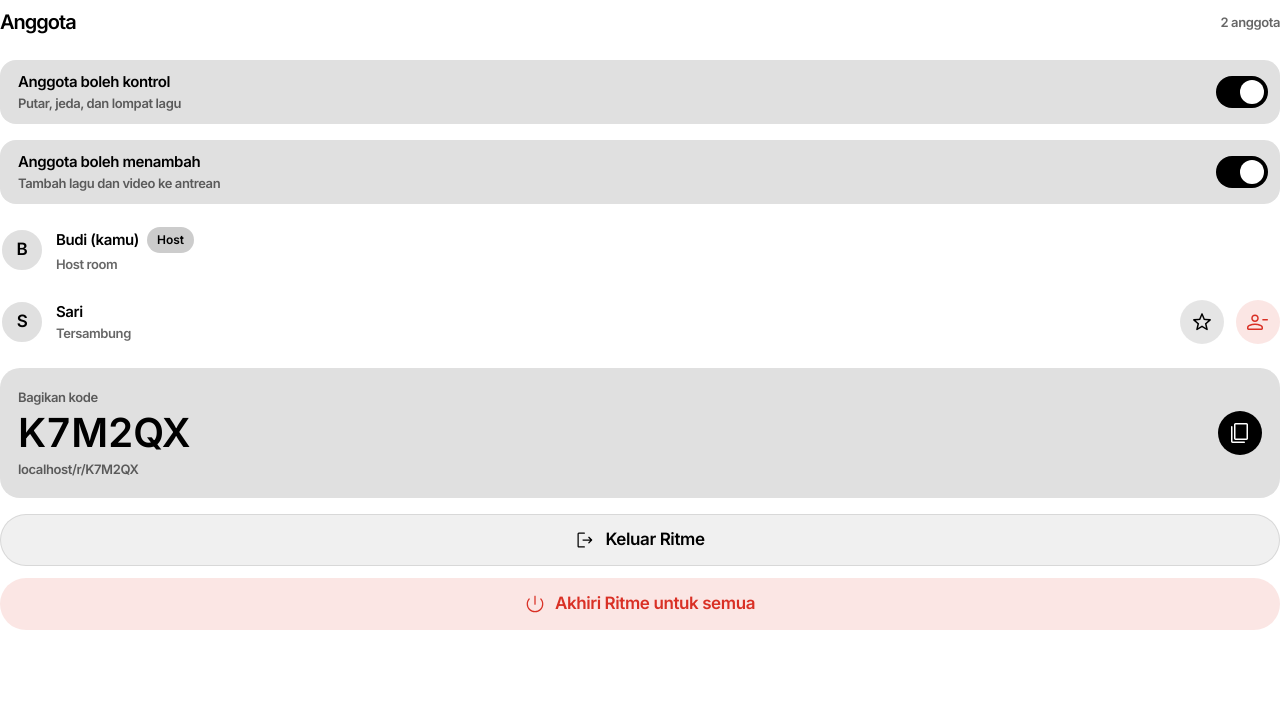
Test case: MembersPanel › does not kick or end the room when the host declines the confirmation
This screenshot has width=1280, height=720.
Click the button named "Keluarkan: Sari" at (1258, 322), box left=1236, top=300, right=1279, bottom=344
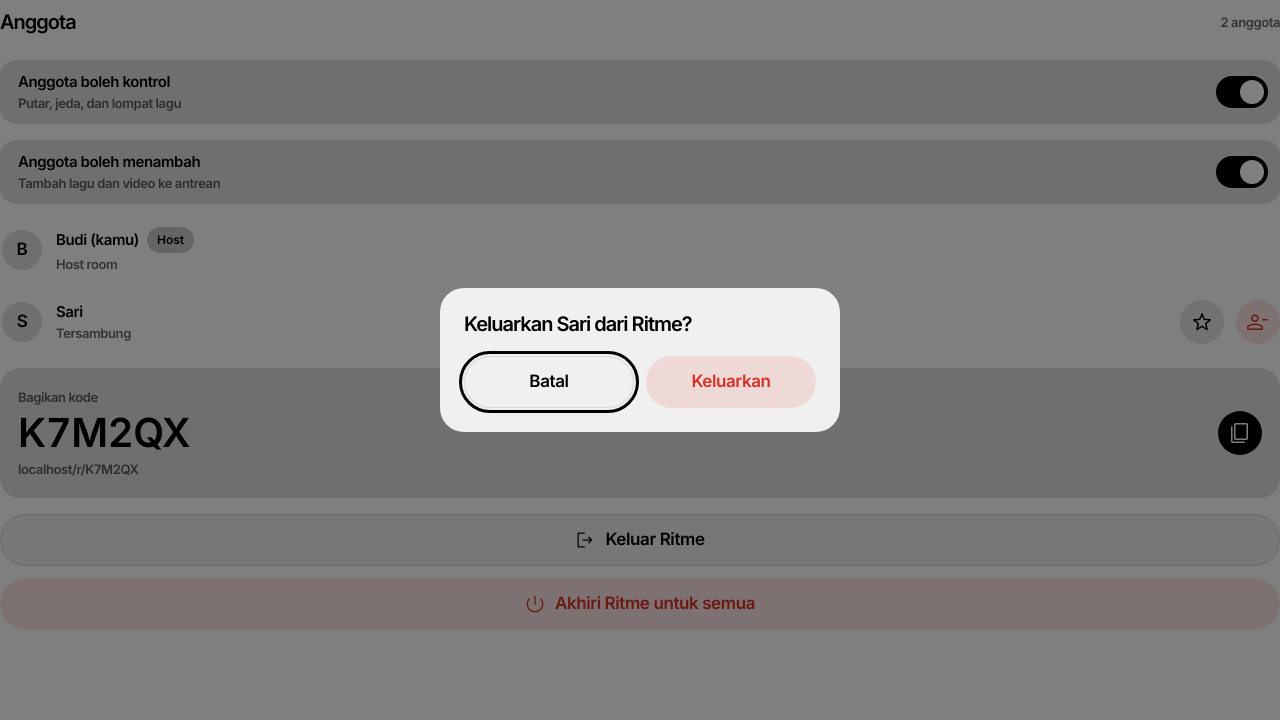
Click the button "Batal" at (549, 382), box left=464, top=356, right=634, bottom=408
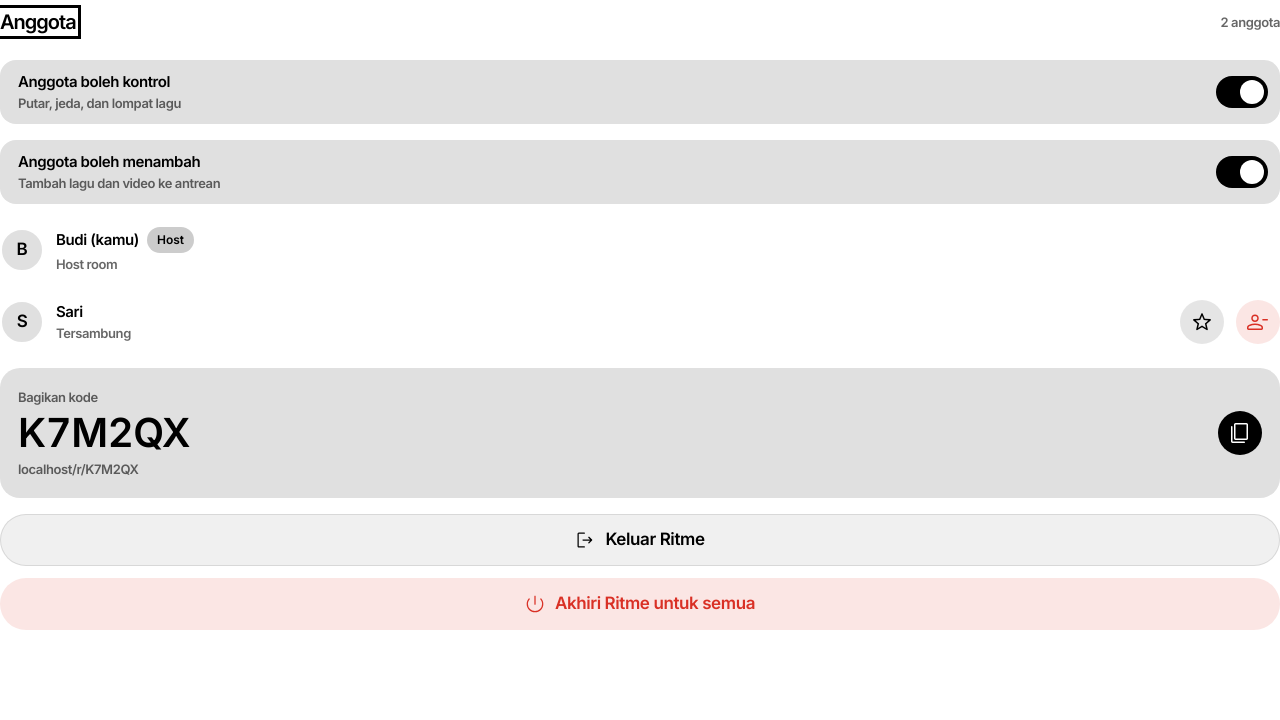
Click the button "Akhiri Ritme untuk semua" at (640, 604), box left=0, top=578, right=1279, bottom=630
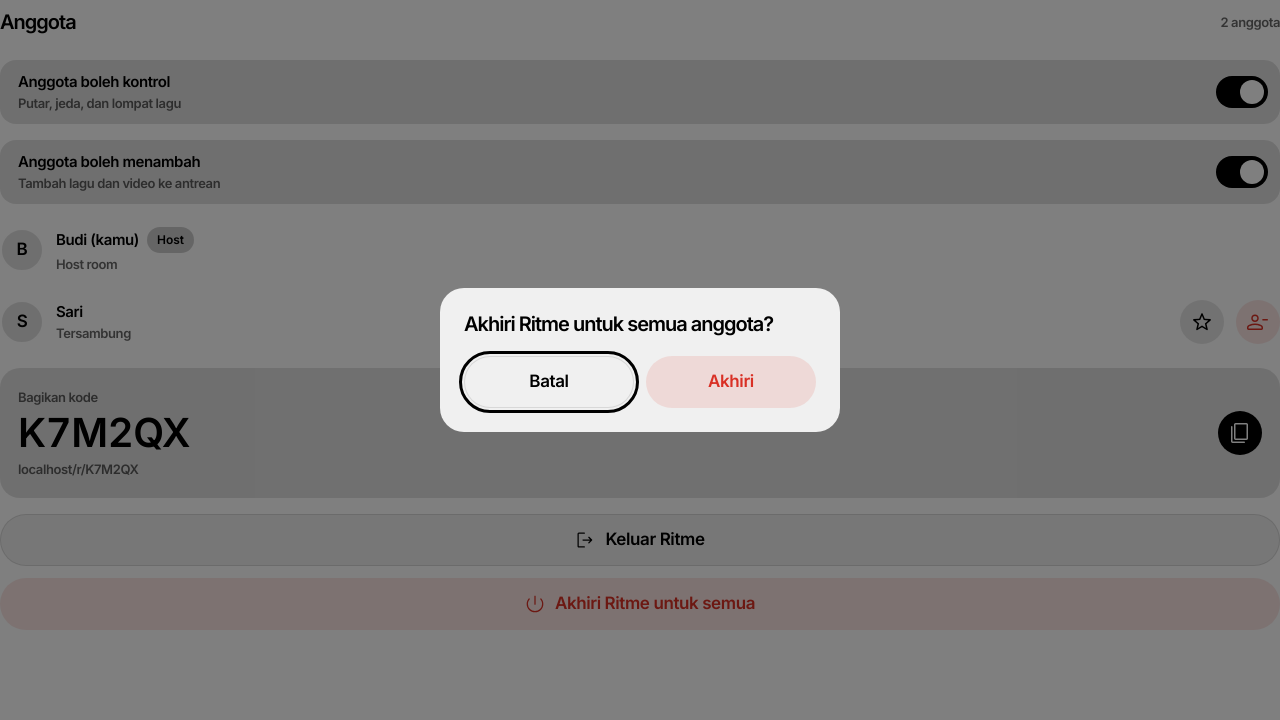
Click the button "Batal" at (549, 382), box left=464, top=356, right=634, bottom=408
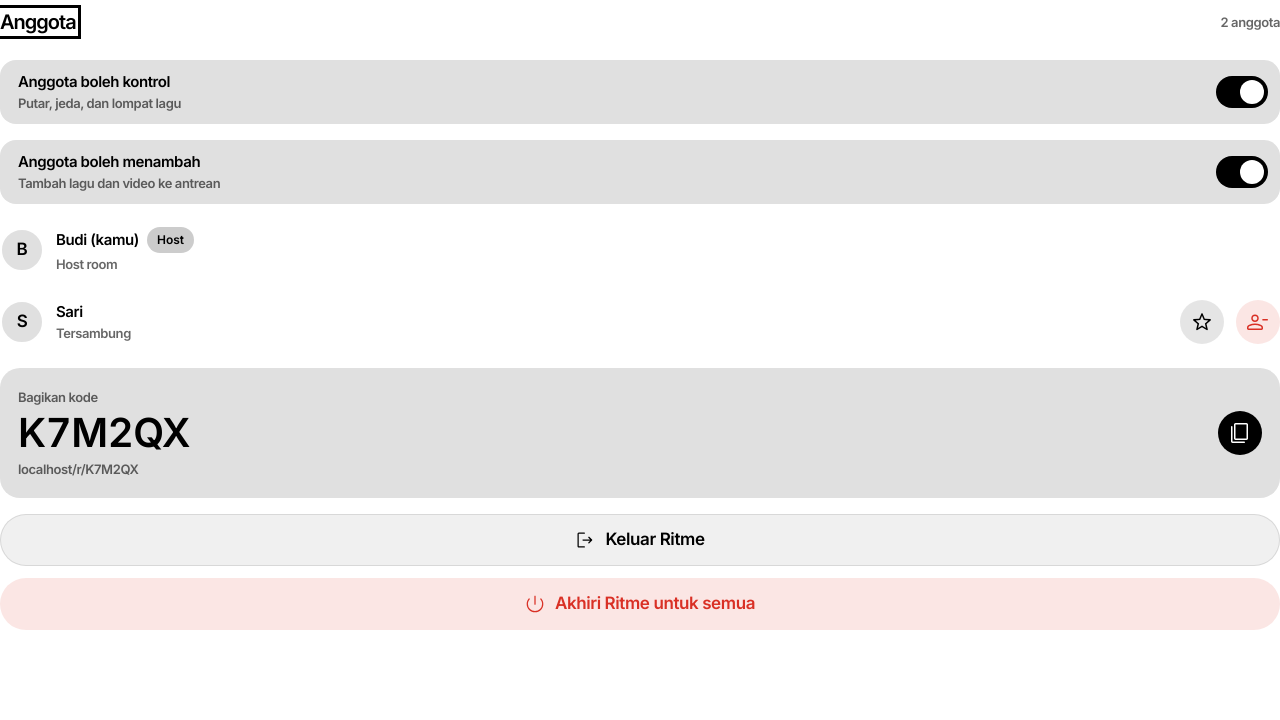
Expected: the dialog is gone
